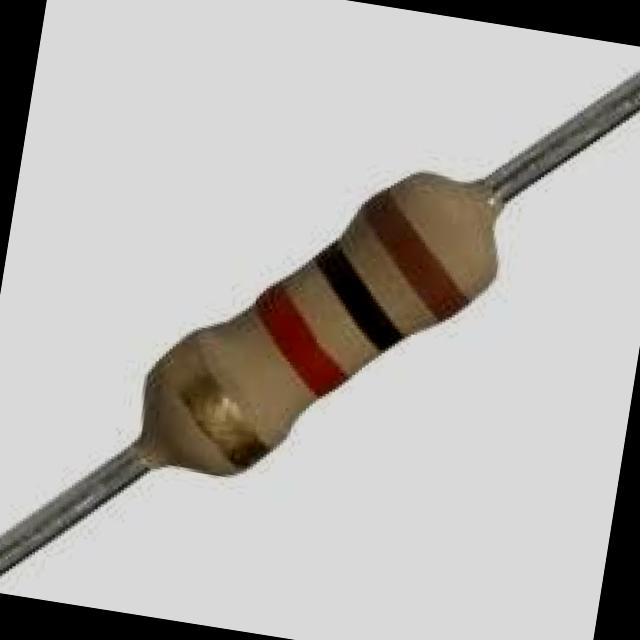Resistor: (136, 176, 498, 468)
black: (313, 239, 404, 353)
brown: (361, 188, 469, 321)
gold: (162, 334, 271, 474)
red: (254, 281, 348, 400)
